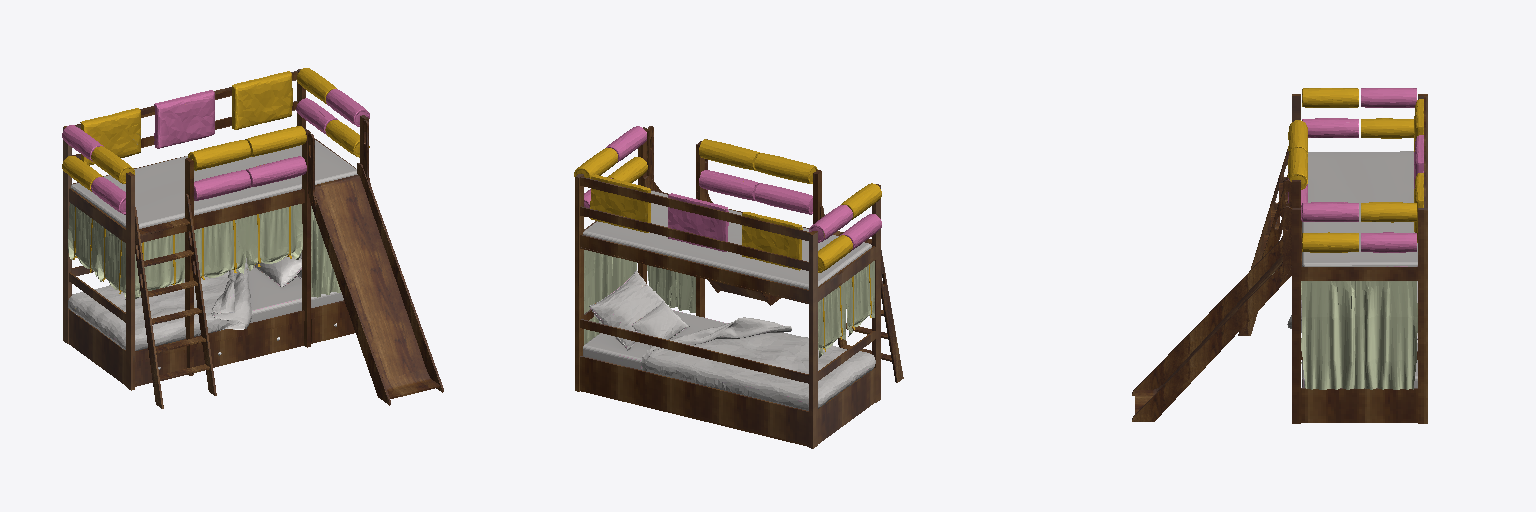
3 renders of one model, left to right at view 1: azimuth 30°, elevation 25°; view 2: azimuth 150°, elevation 25°; view 3: azimuth 270°, elevation 25°, orthographic.
Parts seen in each view (by area): view 1: solid_005, solid_001, solid_003, solid_006, solid_002; view 2: solid_005, solid_001, solid_003, solid_006, solid_002; view 3: solid_005, solid_006, solid_001, solid_003, solid_002.
Boxes of the visible parts, <box> form: solid_005: <box>63,69,443,408</box>; solid_001: <box>68,140,357,350</box>; solid_003: <box>62,68,369,293</box>; solid_006: <box>68,203,340,299</box>; solid_002: <box>62,89,369,214</box>; solid_005: <box>575,126,903,448</box>; solid_001: <box>583,191,875,410</box>; solid_003: <box>574,139,881,351</box>; solid_006: <box>584,250,874,357</box>; solid_002: <box>584,126,881,251</box>; solid_005: <box>1132,94,1427,423</box>; solid_006: <box>1301,281,1417,389</box>; solid_001: <box>1287,151,1417,387</box>; solid_003: <box>1288,88,1423,252</box>; solid_002: <box>1288,88,1423,252</box>.
Size of the model in its own units: 1.49 by 1.24 by 1.51.
1 materials, 1 textured.